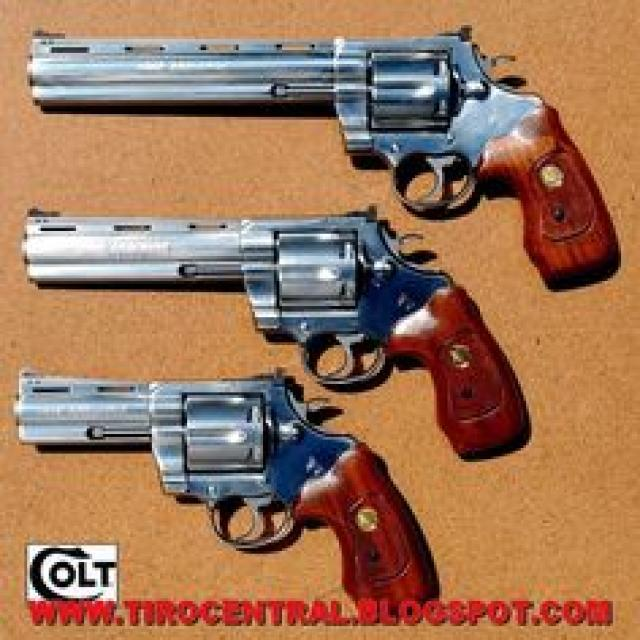revolver: (1, 1, 638, 308)
